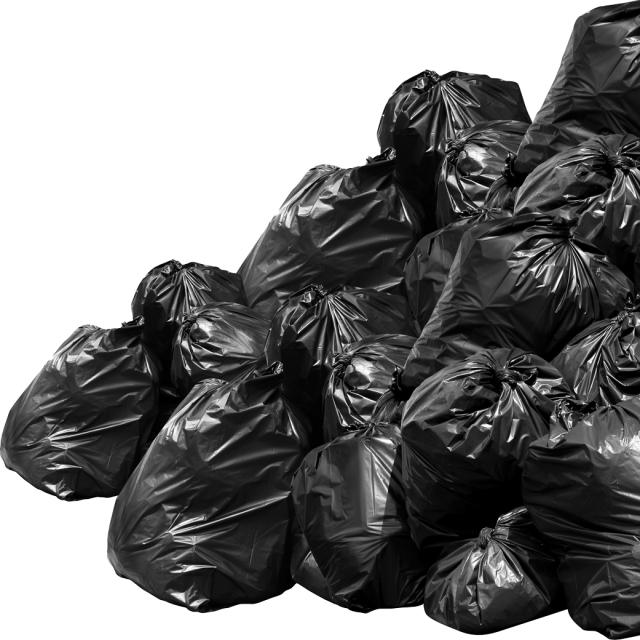Single-layer Plastic: (108, 367, 309, 611), (401, 213, 634, 387), (401, 348, 572, 558), (238, 148, 425, 318), (522, 395, 640, 638), (1, 320, 160, 500), (291, 422, 428, 612), (265, 284, 415, 430), (515, 0, 640, 174), (378, 70, 530, 212), (405, 156, 521, 330), (514, 134, 640, 276), (424, 507, 564, 634), (131, 260, 246, 371), (322, 334, 416, 442), (435, 120, 529, 228), (551, 297, 640, 406), (171, 302, 271, 396)
